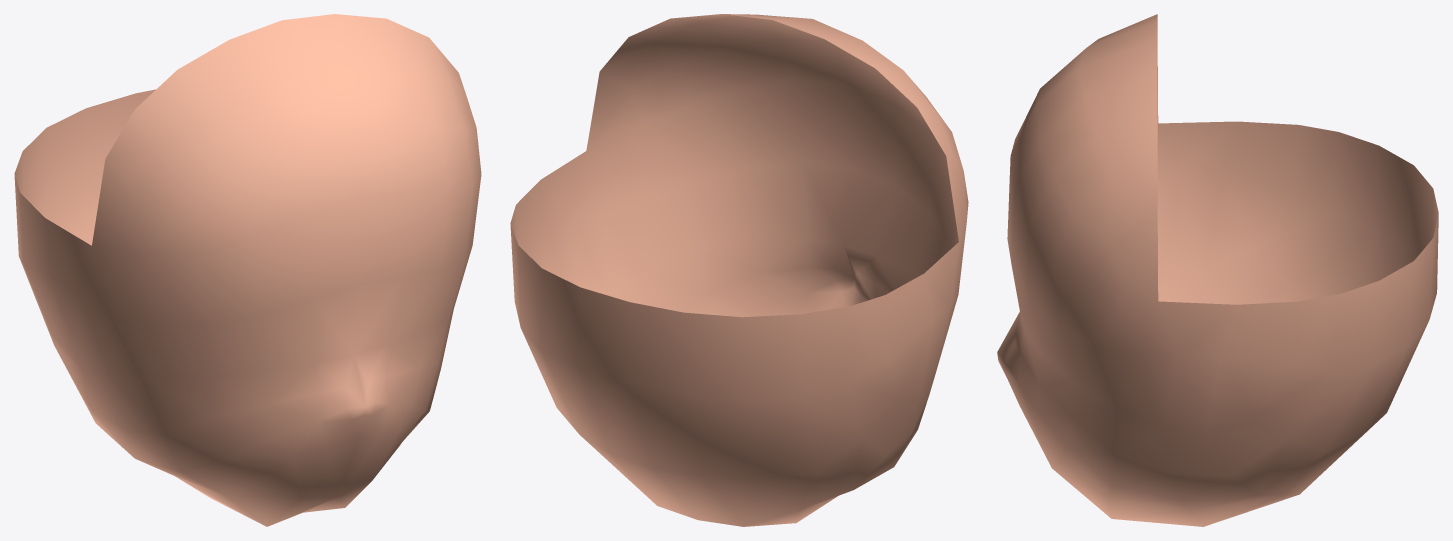
The picture shows the model from 3 angles, left to right: view 1: azimuth 30°, elevation 25°; view 2: azimuth 150°, elevation 25°; view 3: azimuth 270°, elevation 25°; orthographic projection. The views are drawn at different scales.
Parts seen in each view (by area): view 1: AF_M_Face_18; view 2: AF_M_Face_18; view 3: AF_M_Face_18.
Part boxes in pixels (x1,y1,x2,y2): AF_M_Face_18: [14, 14, 481, 526]; AF_M_Face_18: [510, 14, 968, 526]; AF_M_Face_18: [997, 14, 1438, 526].
Bounding box in the file's own units: 655 × 769 × 661.
Materials: 1 (1 with a texture image).
